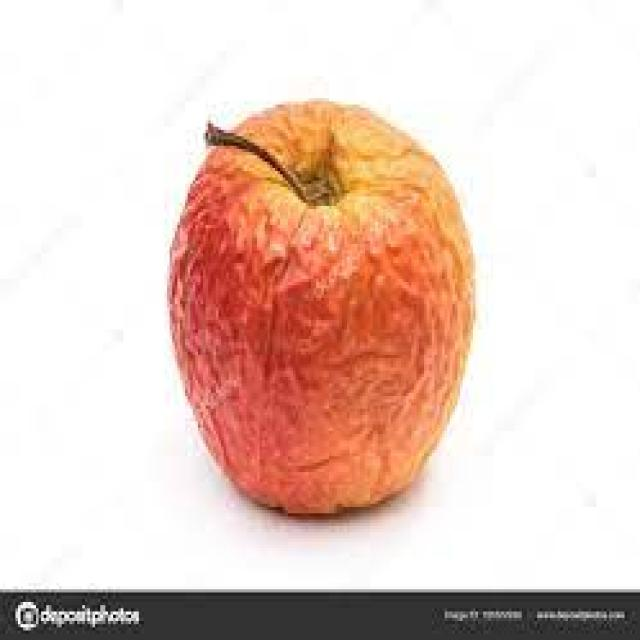overripe: (162, 89, 482, 520)
